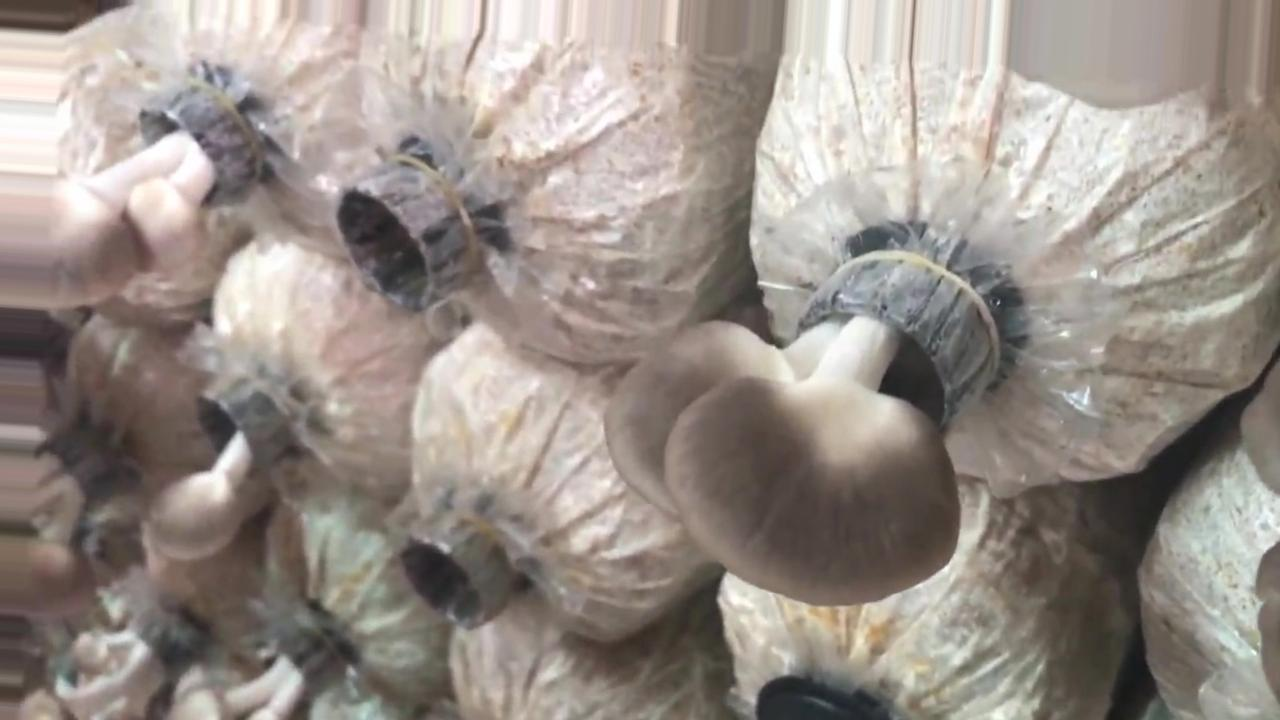nam: (603, 245, 1003, 603), (1, 74, 261, 309), (153, 370, 288, 559)
